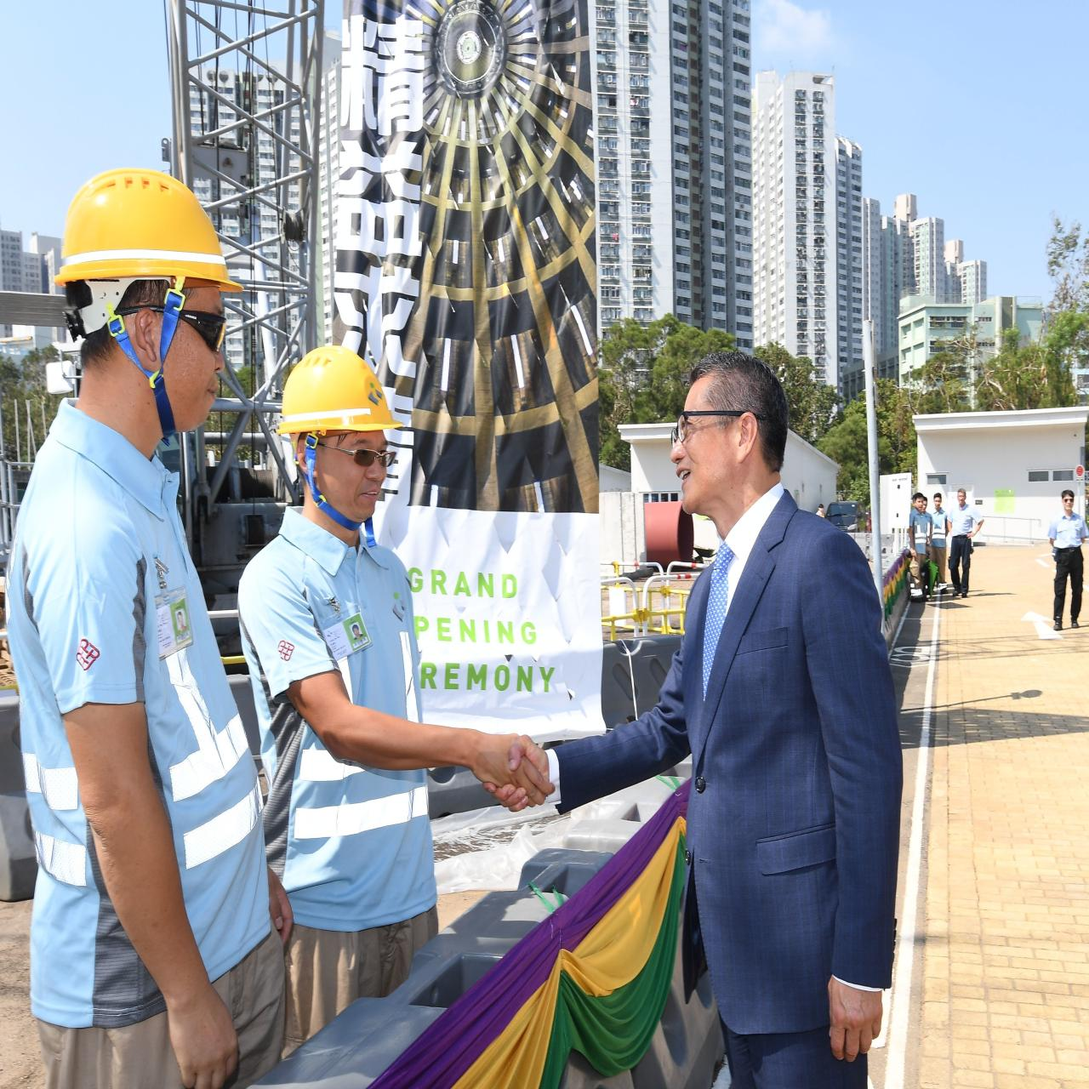NO_Safety_Vest: (5, 398, 275, 1026), (609, 505, 906, 1038), (235, 507, 474, 940)
Person: (542, 349, 927, 1089), (0, 154, 272, 1089), (234, 327, 529, 1086)
